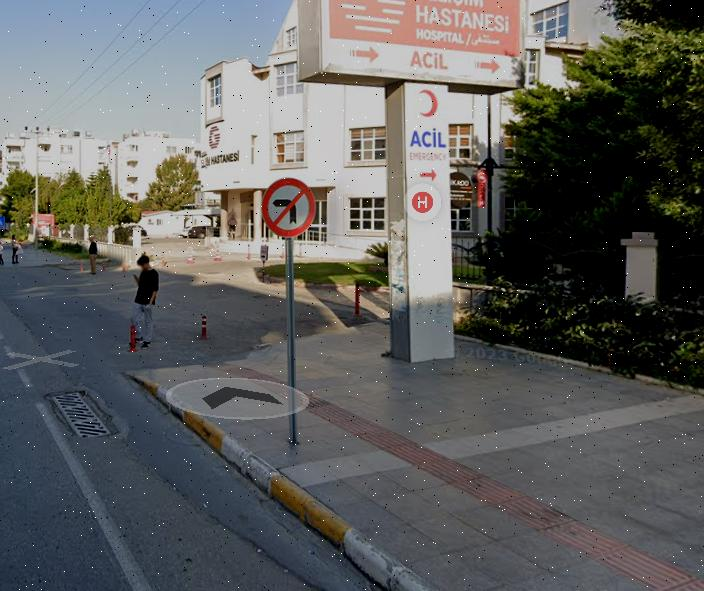leftturnsareforbidden: (265, 179, 315, 238)
